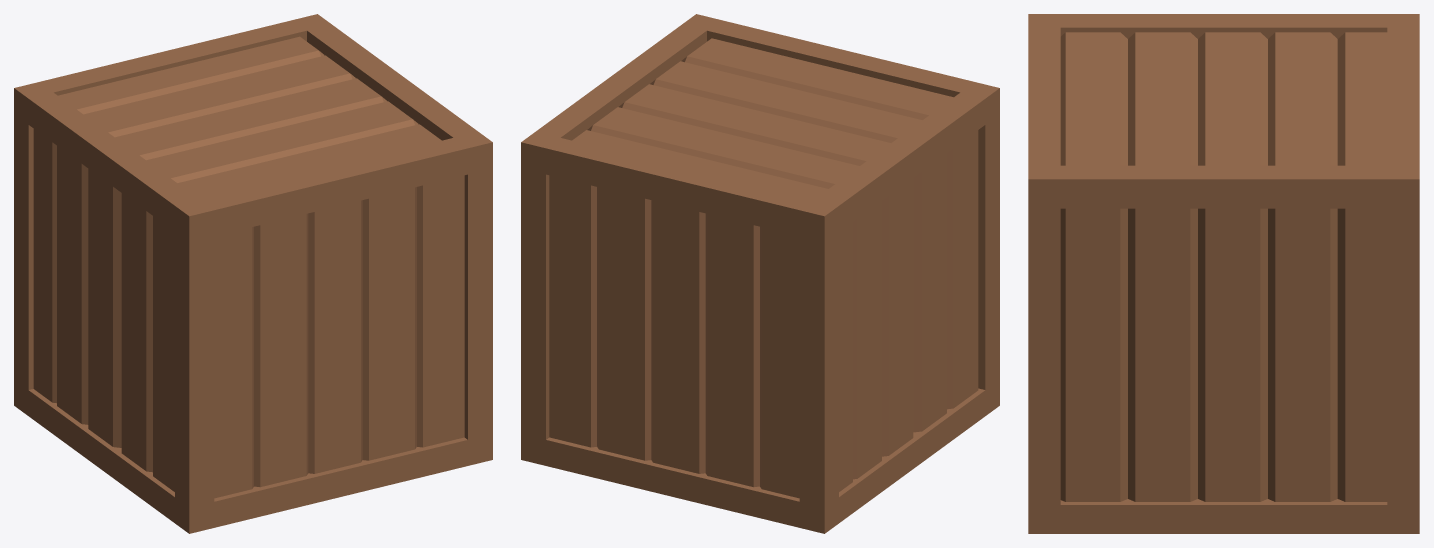
Rendered from crate.fbx.
The picture shows the model from 3 angles, left to right: view 1: azimuth 30°, elevation 25°; view 2: azimuth 150°, elevation 25°; view 3: azimuth 270°, elevation 25°; orthographic projection. The views are drawn at different scales.
Visible parts, largest first — view 1: crate; view 2: crate; view 3: crate.
Boxes of the visible parts, x1=… form: crate: x1=14, y1=14, x2=492, y2=533; crate: x1=521, y1=14, x2=999, y2=533; crate: x1=1028, y1=14, x2=1419, y2=533.
Size of the model in its own units: 58.32 by 58.32 by 58.32.
